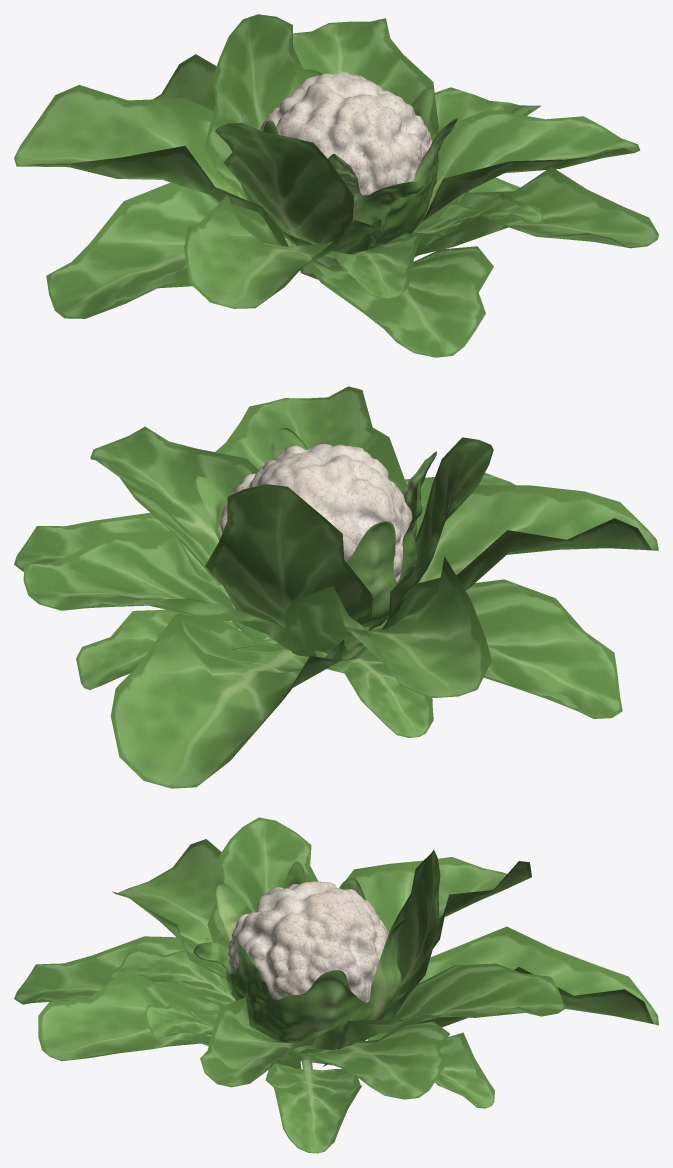
The model's file is cauliflower.glb.
The picture shows the model from 3 angles, top to bottom: view 1: azimuth 30°, elevation 25°; view 2: azimuth 150°, elevation 25°; view 3: azimuth 270°, elevation 25°; orthographic projection. The views are drawn at different scales.
Visible parts, largest first — view 1: Cauliflower_00; view 2: Cauliflower_00; view 3: Cauliflower_00.
Boxes of the visible parts, x1=… form: Cauliflower_00: x1=14, y1=14, x2=658, y2=357; Cauliflower_00: x1=14, y1=386, x2=658, y2=788; Cauliflower_00: x1=14, y1=817, x2=658, y2=1153.
Bounding box in the file's own units: 1.36 × 0.5 × 1.54.
2 materials, 2 textured.
